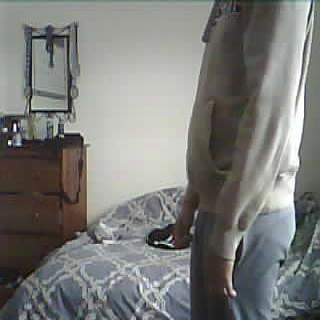Blue Sweatpants: (192, 211, 297, 320)
Yellow Hoodie: (188, 0, 311, 207)
